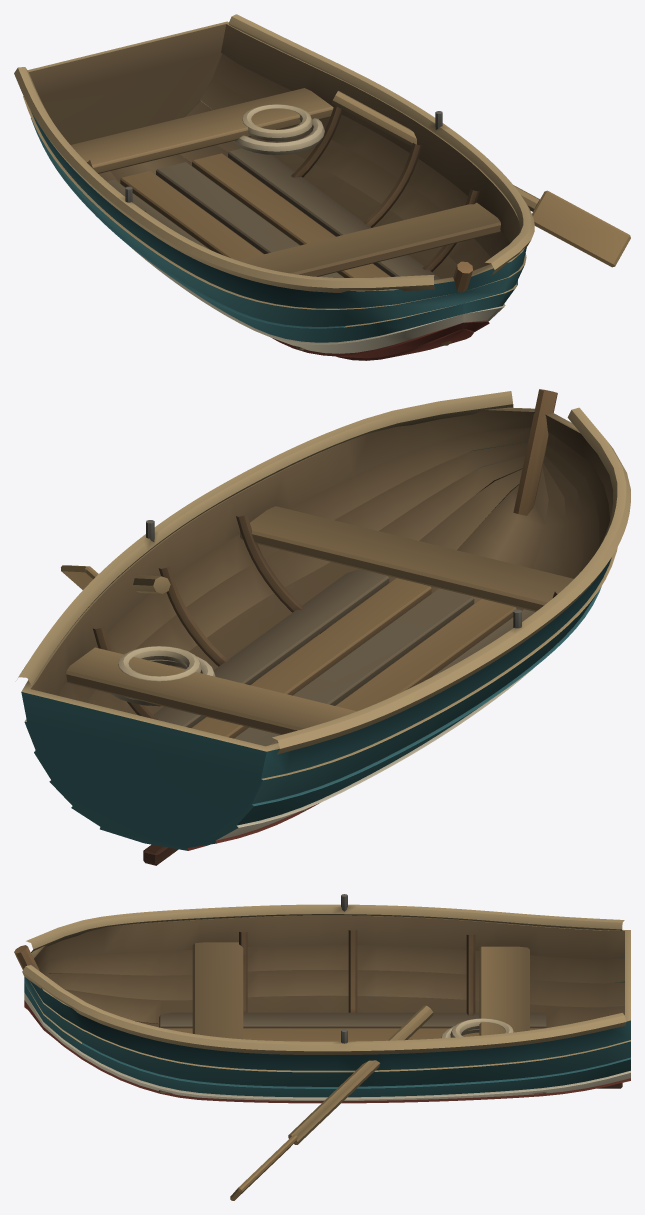
Rendered from skiff.glb.
3 renders of one model, top to bottom at view 1: azimuth 30°, elevation 25°; view 2: azimuth 150°, elevation 25°; view 3: azimuth 270°, elevation 25°, orthographic. The views are drawn at different scales.
Parts seen in each view (by area): view 1: skiff; view 2: skiff; view 3: skiff.
Boxes of the visible parts, left/top/right/bottom form: skiff: left=14, top=14, right=630, bottom=360; skiff: left=18, top=389, right=630, bottom=865; skiff: left=14, top=894, right=630, bottom=1200.
Size of the model in its own units: 2.77 by 0.9183 by 3.66.
